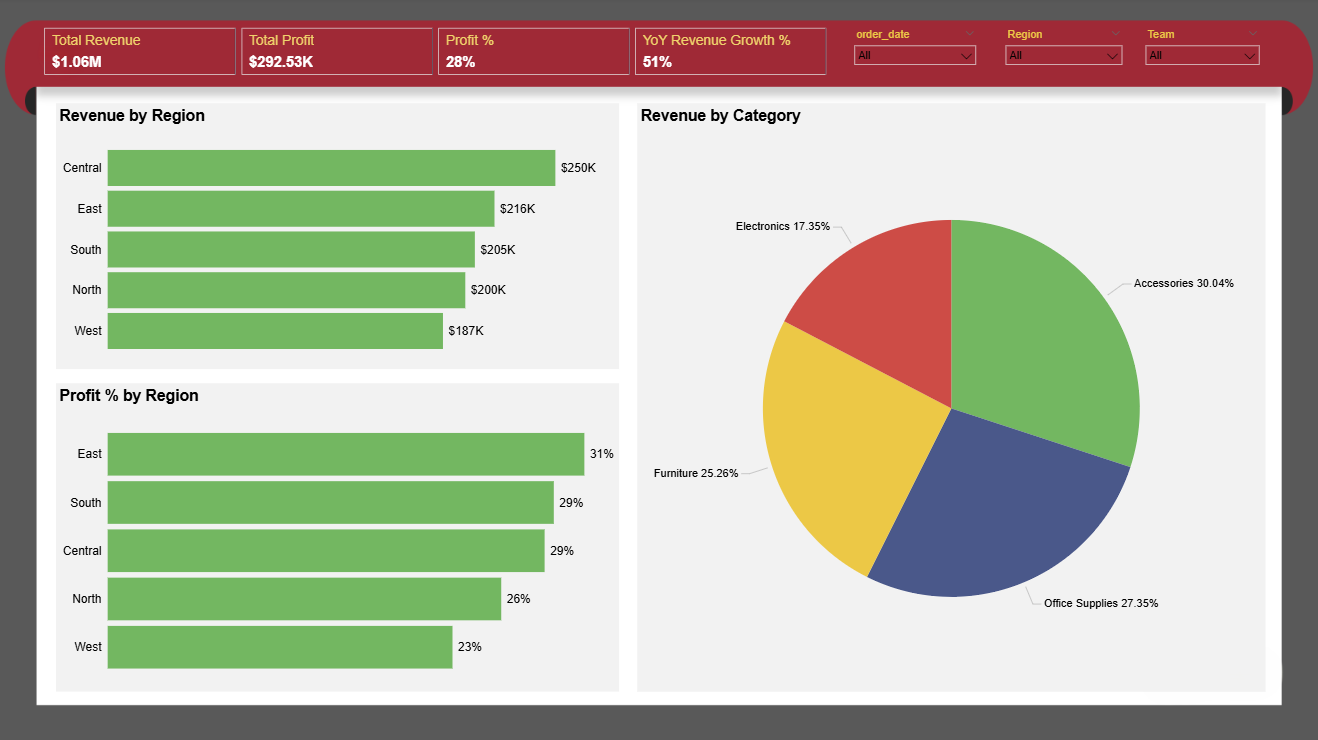

Layout of this report page (visuals, bound fields, positions):
{"tool":"powerbi","page":{"name":"overview","canvas":[1920,1080],"ordinal":0},"visuals":[{"type":"cardVisual","fields":{"Data":["Sales_Fact.Total Revenue","Sales_Fact.Total Profit","Sales_Fact.Profit %","Sales_Fact.YoY Revenue Growth %"]},"box":[65.9,39.1,1142.4,78.2],"z":0},{"type":"slicer","fields":{"Values":["Sales_Fact.order_date.Variation.Date Hierarchy.Year"]},"box":[1232.4,39.8,196.4,63.3],"z":0,"group":"g1"},{"type":"slicer","fields":{"Values":["Regions.region_name"]},"box":[1451.5,39.8,188.9,77.8],"z":1000,"group":"g1"},{"type":"clusteredBarChart","title":"Revenue by Region","fields":{"Category":["Regions.region_name"],"Y":["Sales_Fact.Total Revenue"]},"box":[86.4,154.4,815.1,384.9],"z":1000},{"type":"slicer","fields":{"Values":["Salespersons.team"]},"box":[1653.6,39.8,185.1,67],"z":2000,"group":"g1"},{"type":"pieChart","title":"Revenue by Category","fields":{"Category":["Products.category"],"Y":["Sales_Fact.Total Revenue"]},"box":[928.3,154.4,909.8,852.1],"z":2000},{"type":"clusteredBarChart","title":"Profit % by Region","fields":{"Category":["Regions.region_name"],"Y":["Sales_Fact.Profit %"]},"box":[86.4,559.9,815.1,446.7],"z":3000},{"type":"group","id":"g1","title":"Group 1","box":[1232.4,39.8,606.2,77.8],"z":4000}]}

Visuals, with their boxes in screenshot pixels (x1, y1, x2, y2), scaled from the page's 1920x1080 canvas onto the 1318x740 screenshot:
cardVisual - Sales_Fact.Total Revenue x Sales_Fact.Total Profit: l=45, t=27, r=829, b=80
slicer - Sales_Fact.order_date.Variation.Date Hierarchy.Year: l=846, t=27, r=981, b=71
slicer - Regions.region_name: l=996, t=27, r=1126, b=81
"Revenue by Region" clusteredBarChart: l=59, t=106, r=619, b=370
slicer - Salespersons.team: l=1135, t=27, r=1262, b=73
"Revenue by Category" pieChart: l=637, t=106, r=1262, b=690
"Profit % by Region" clusteredBarChart: l=59, t=384, r=619, b=690
"Group 1" group: l=846, t=27, r=1262, b=81
